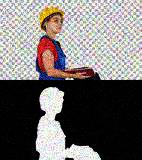helmet: (38, 7, 65, 33)
